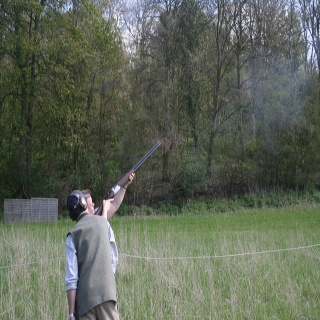shotgun: (93, 139, 165, 217)
